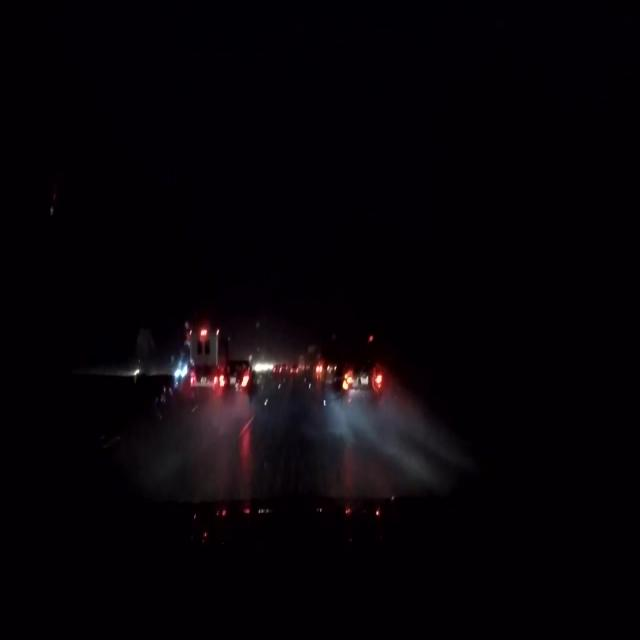Car: (320, 345, 383, 400), (218, 358, 253, 400)
